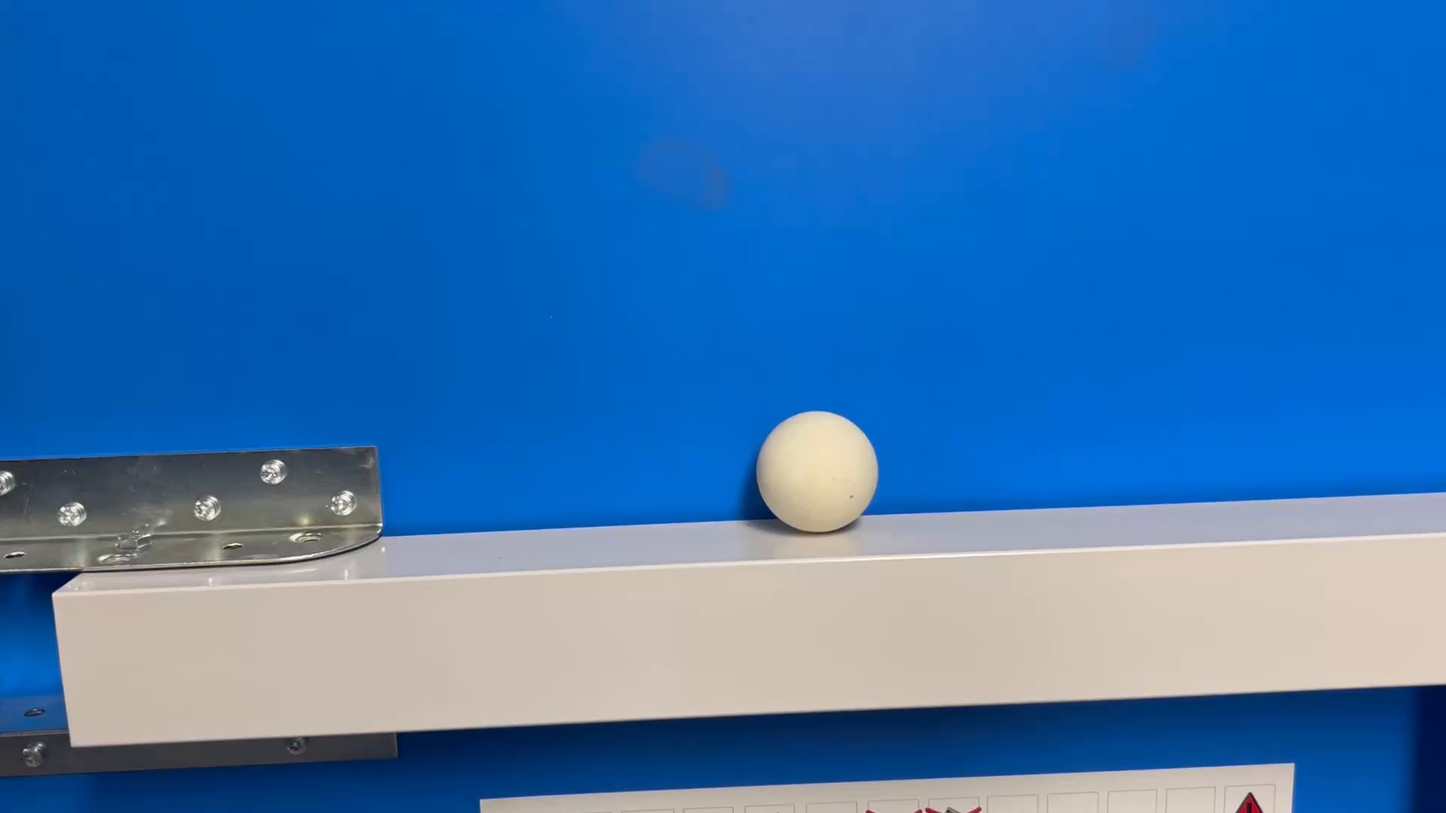Ball: (737, 401, 904, 557)
